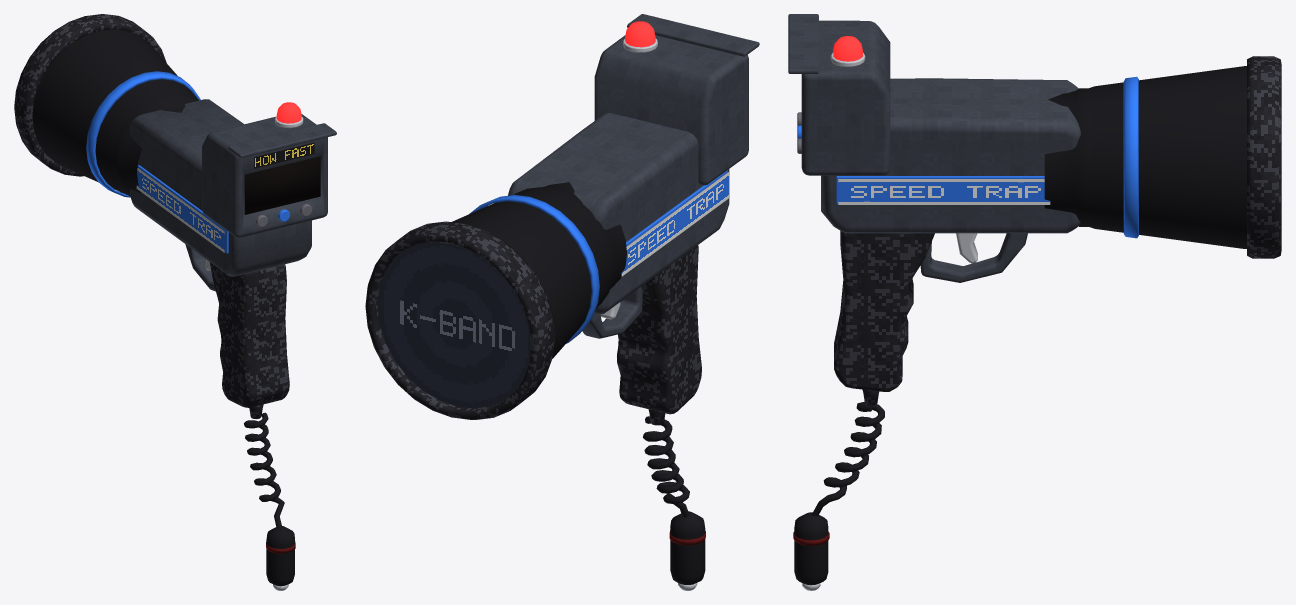
The model's file is w_radar.glb.
The picture shows the model from 3 angles, left to right: view 1: azimuth 30°, elevation 25°; view 2: azimuth 150°, elevation 25°; view 3: azimuth 270°, elevation 25°; orthographic projection. The views are drawn at different scales.
Visible parts, largest first — view 1: rd_body_wzA, rd_body_wzB, rd_body_wzN, lamp_wzN; view 2: rd_body_wzA, rd_body_wzN, rd_body_wzB, lamp_wzN; view 3: rd_body_wzA, rd_body_wzB, rd_body_wzN, lamp_wzN.
Part boxes in pixels (x1,y1,x2,y2): rd_body_wzA: [14, 14, 336, 418]; rd_body_wzB: [32, 29, 320, 590]; rd_body_wzN: [86, 71, 314, 553]; lamp_wzN: [276, 102, 301, 123]; rd_body_wzA: [365, 14, 759, 425]; rd_body_wzN: [377, 170, 728, 545]; rd_body_wzB: [451, 38, 705, 590]; lamp_wzN: [625, 21, 655, 47]; rd_body_wzA: [788, 14, 1281, 405]; rd_body_wzB: [794, 52, 1246, 590]; rd_body_wzN: [793, 76, 1138, 545]; lamp_wzN: [833, 36, 862, 61].
Size of the model in its own units: 0.105 by 0.3237 by 0.256.
Materials: 14 (5 with a texture image).
